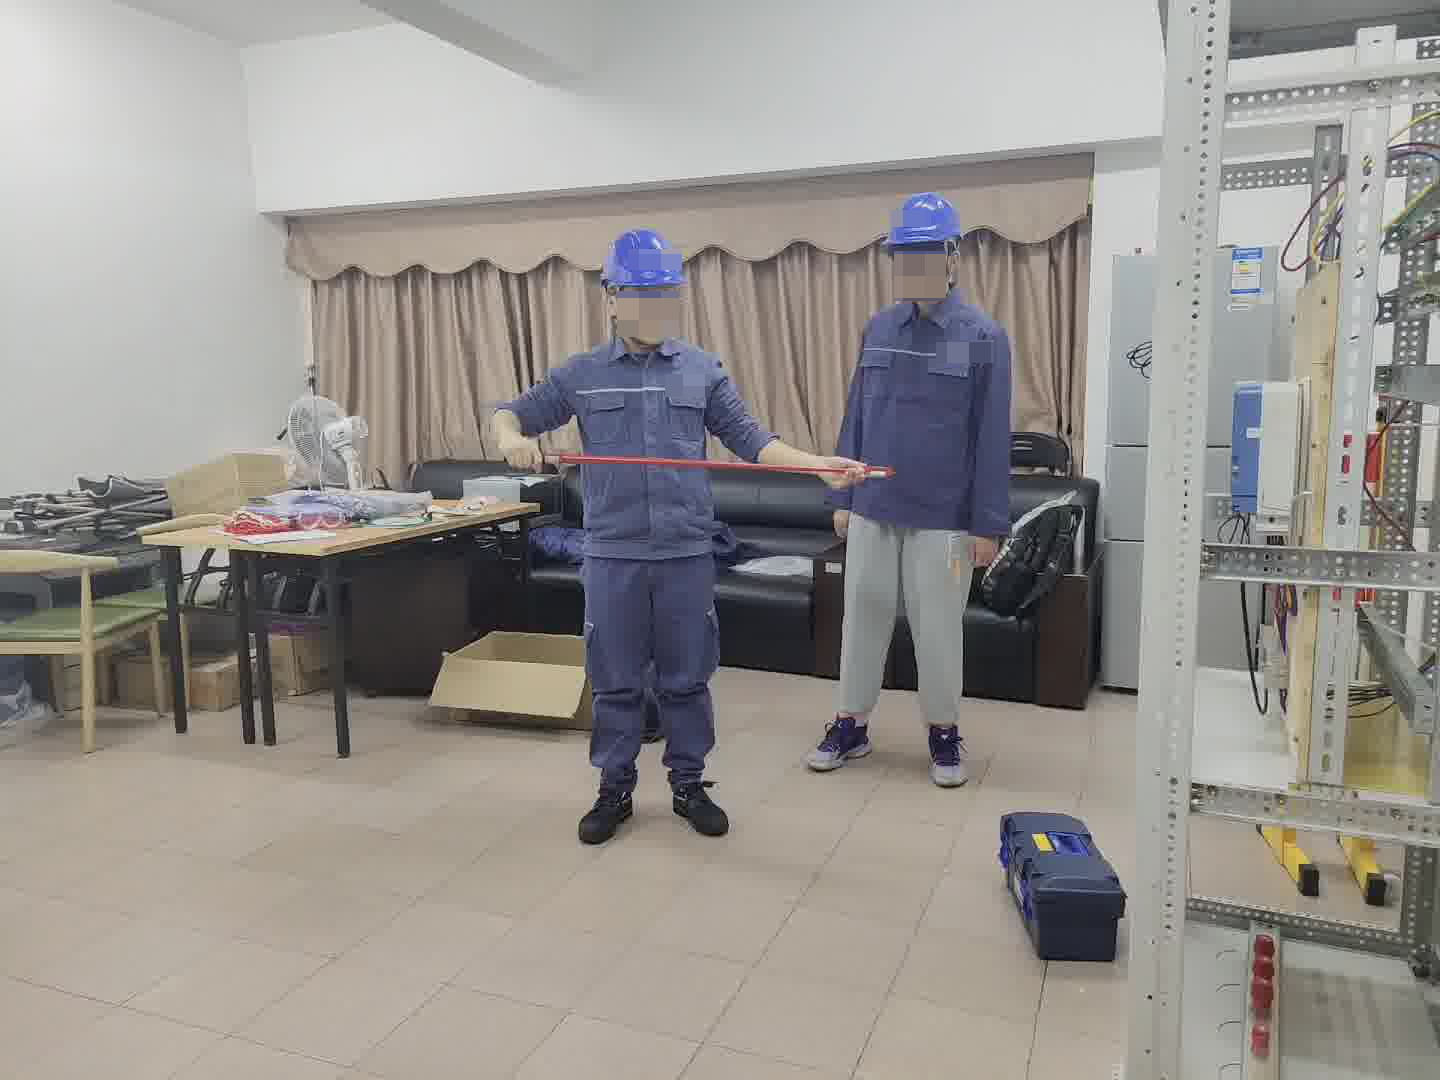downcloth: (822, 510, 982, 735)
downsuit: (581, 578, 724, 791)
halt: (596, 225, 692, 339), (880, 190, 967, 293)
hand: (813, 447, 863, 493), (502, 428, 540, 472), (975, 530, 1002, 567), (828, 510, 850, 540)
inear: (935, 235, 960, 281), (600, 281, 627, 320)
person: (503, 223, 774, 840), (822, 188, 1019, 786)
testrod: (547, 448, 868, 480)
upsuit: (506, 330, 767, 556), (833, 291, 1016, 536)
wrongtop: (745, 432, 868, 491), (488, 397, 544, 475)
